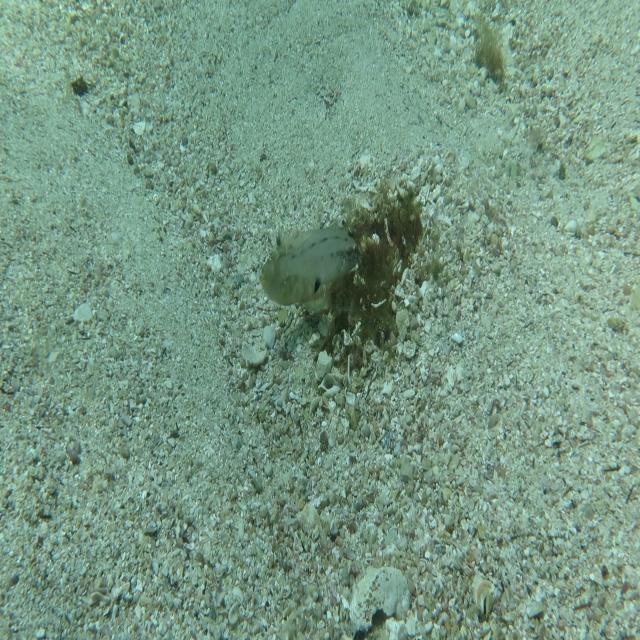DAN_CIRC: (260, 225, 336, 312)
female: (277, 227, 363, 295)
nest: (306, 162, 431, 368)
